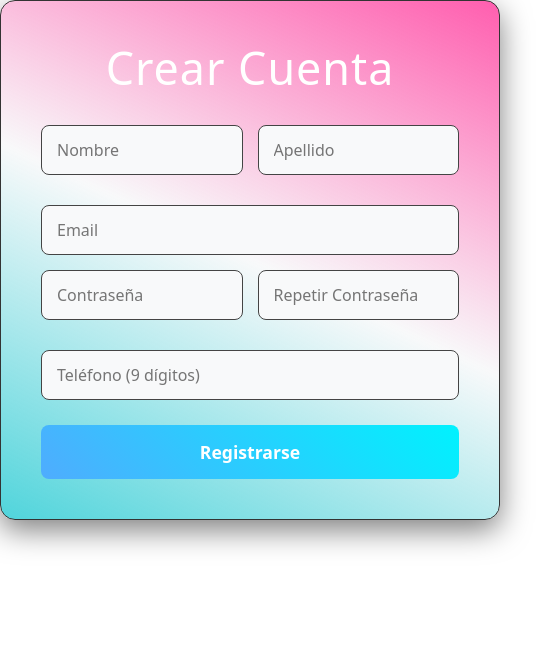
Test: Registro de usuarios › muestra error si el apellido tiene menos de 3 letras
Type "Juan" into the field with placeholder "Nombre" at (142, 150), box x1=41 y1=125 x2=242 y2=175
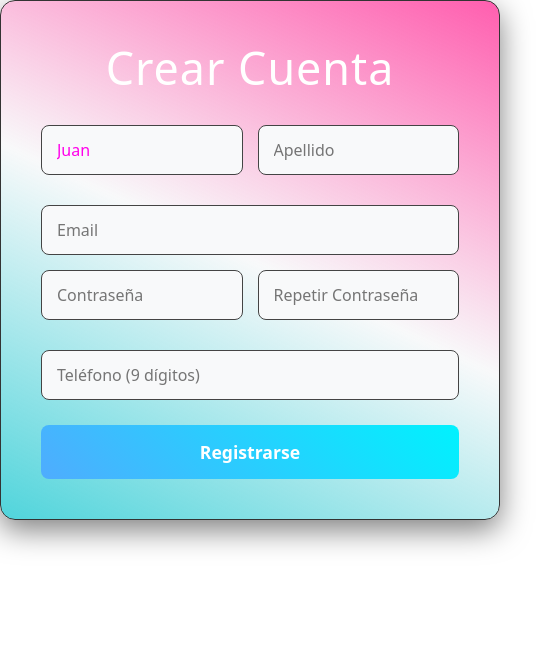
Type "Pe" into the field with placeholder "Apellido" at (358, 150), box x1=258 y1=125 x2=459 y2=175
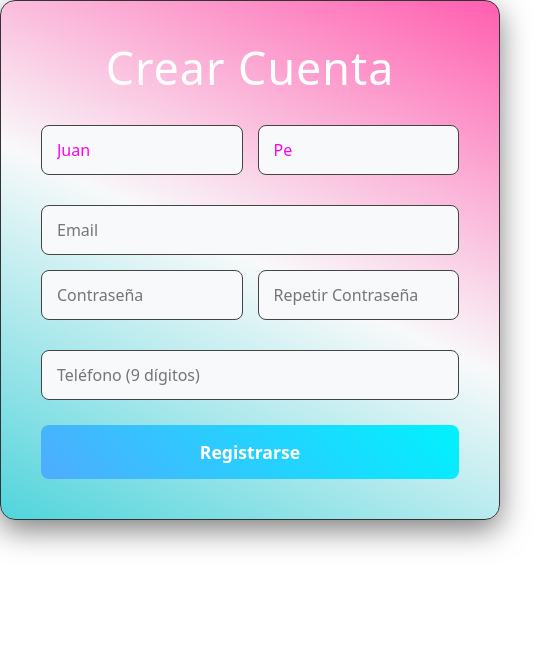
Click the button "Registrarse" at (250, 452), box x1=41 y1=425 x2=459 y2=479
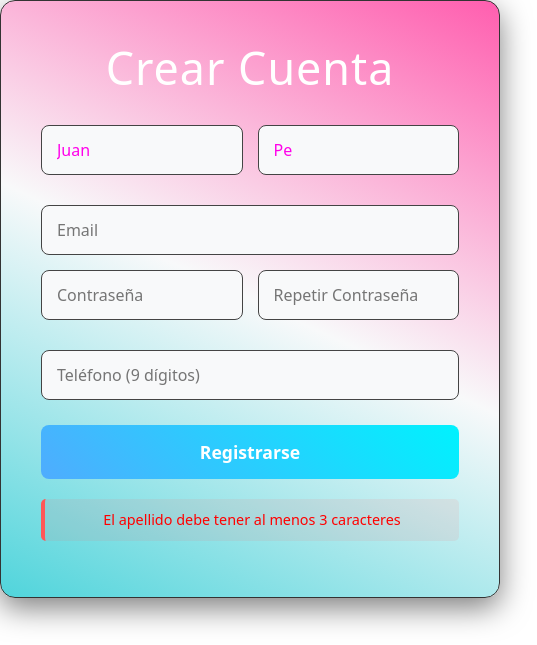
Expected: the text "El apellido debe tener al menos 3 caracteres" is shown, x1=41 y1=499 x2=459 y2=541
